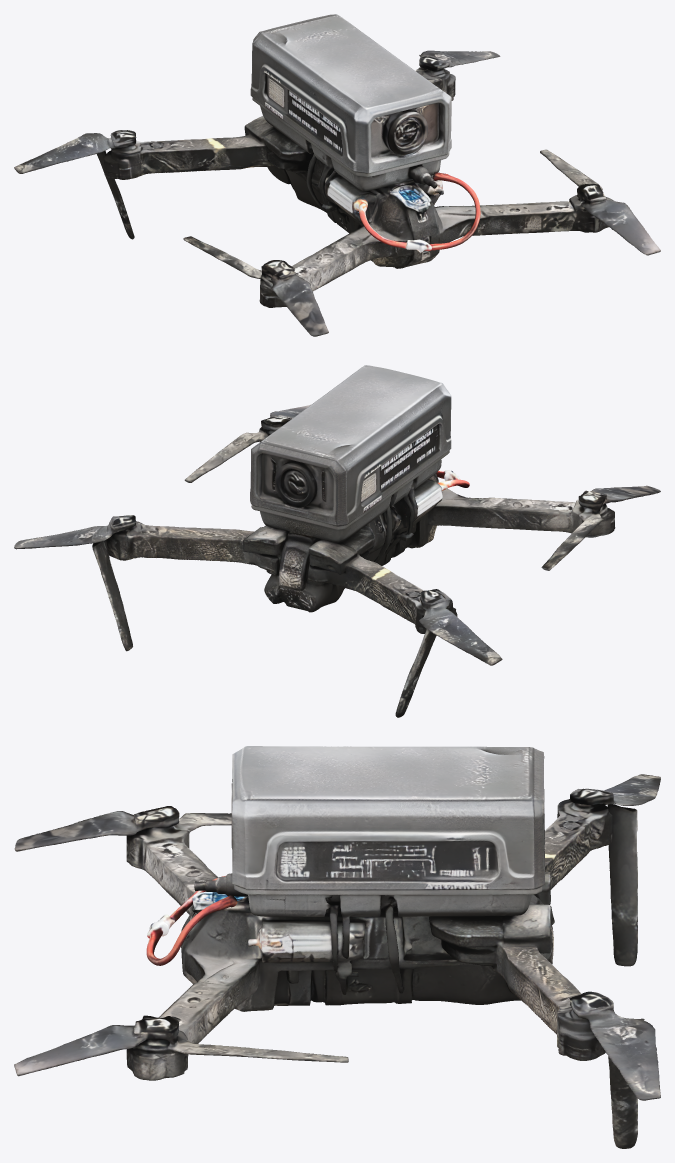
The model's file is base_basic_shaded.glb.
3 renders of one model, top to bottom at view 1: azimuth 30°, elevation 25°; view 2: azimuth 150°, elevation 25°; view 3: azimuth 270°, elevation 25°, orthographic. The views are drawn at different scales.
Parts seen in each view (by area): view 1: model; view 2: model; view 3: model.
Part boxes in pixels (<box>): model: <box>14,14,660,336</box>; model: <box>14,365,660,717</box>; model: <box>14,746,660,1148</box>.
Bounding box in the file's own units: 1.87 × 0.7704 × 1.58.
Materials: 1 (1 with a texture image).
